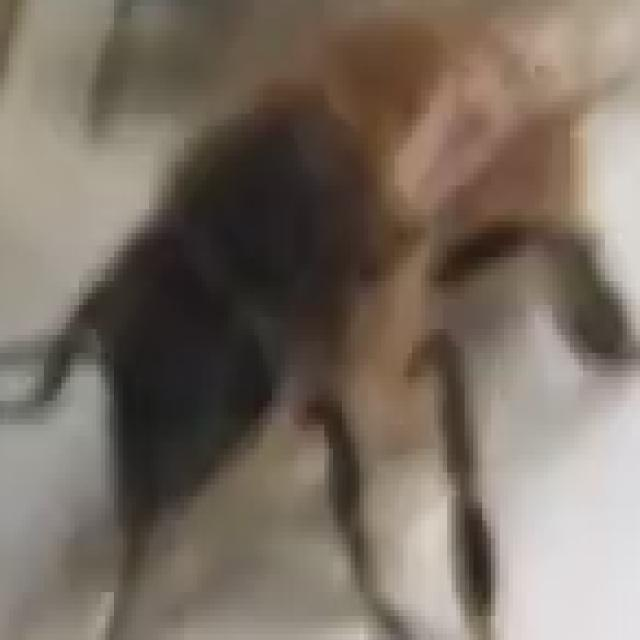honeybee: (58, 0, 620, 556)
